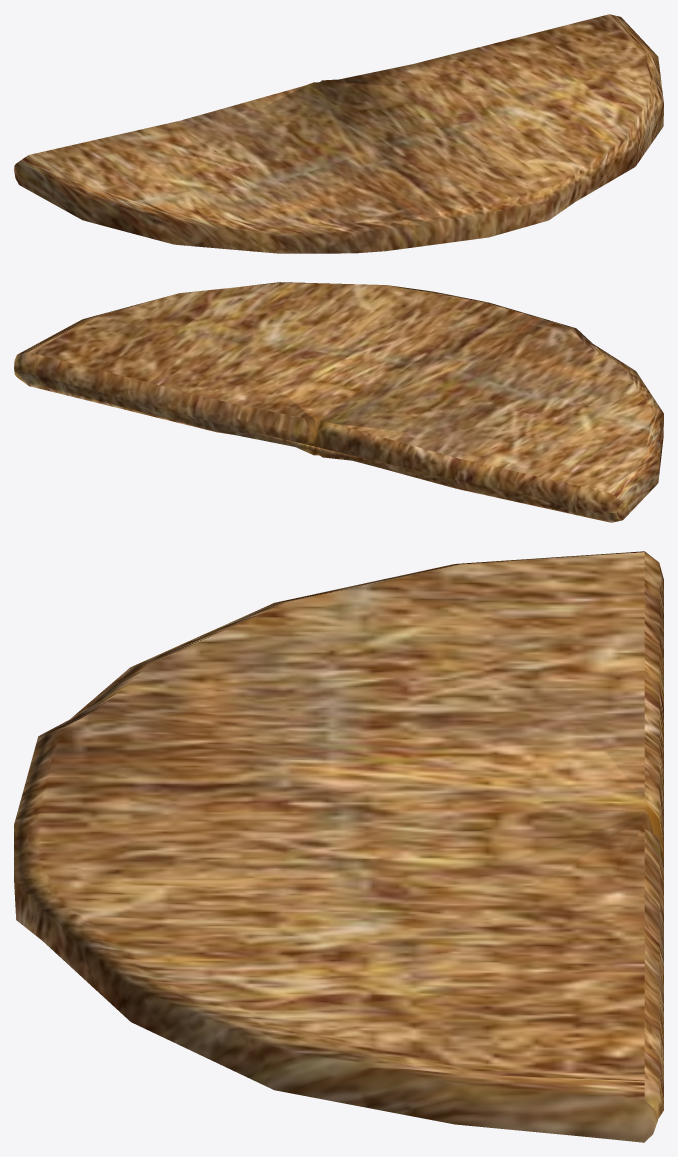
File: Plat_roccia04.FBX
3 views of the same model, one above another, from view 1: azimuth 30°, elevation 25°; view 2: azimuth 150°, elevation 25°; view 3: azimuth 270°, elevation 25° (orthographic). The views are drawn at different scales.
Parts seen in each view (by area): view 1: PlatRoccia003; view 2: PlatRoccia003; view 3: PlatRoccia003.
Part boxes in pixels (x1,y1,x2,y2): PlatRoccia003: (14,14,663,253); PlatRoccia003: (14,282,663,522); PlatRoccia003: (14,551,663,1142).
Bounding box in the file's own units: 802 × 50.82 × 403.
Materials: 1 (1 with a texture image).
